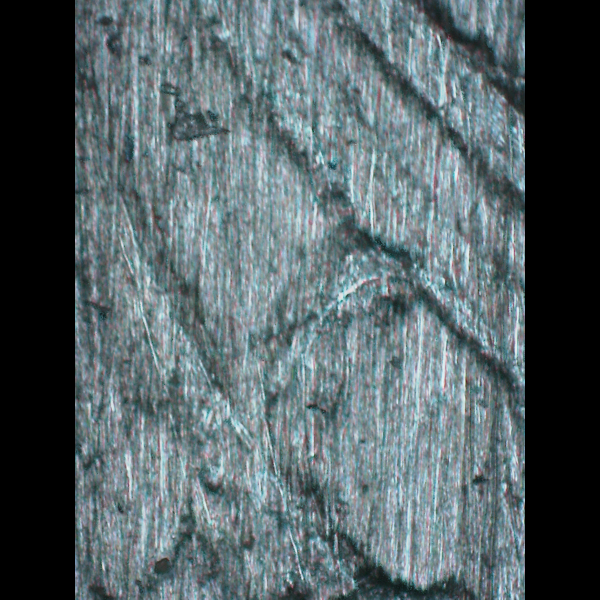d: (115, 194, 480, 599), (288, 3, 522, 417)
